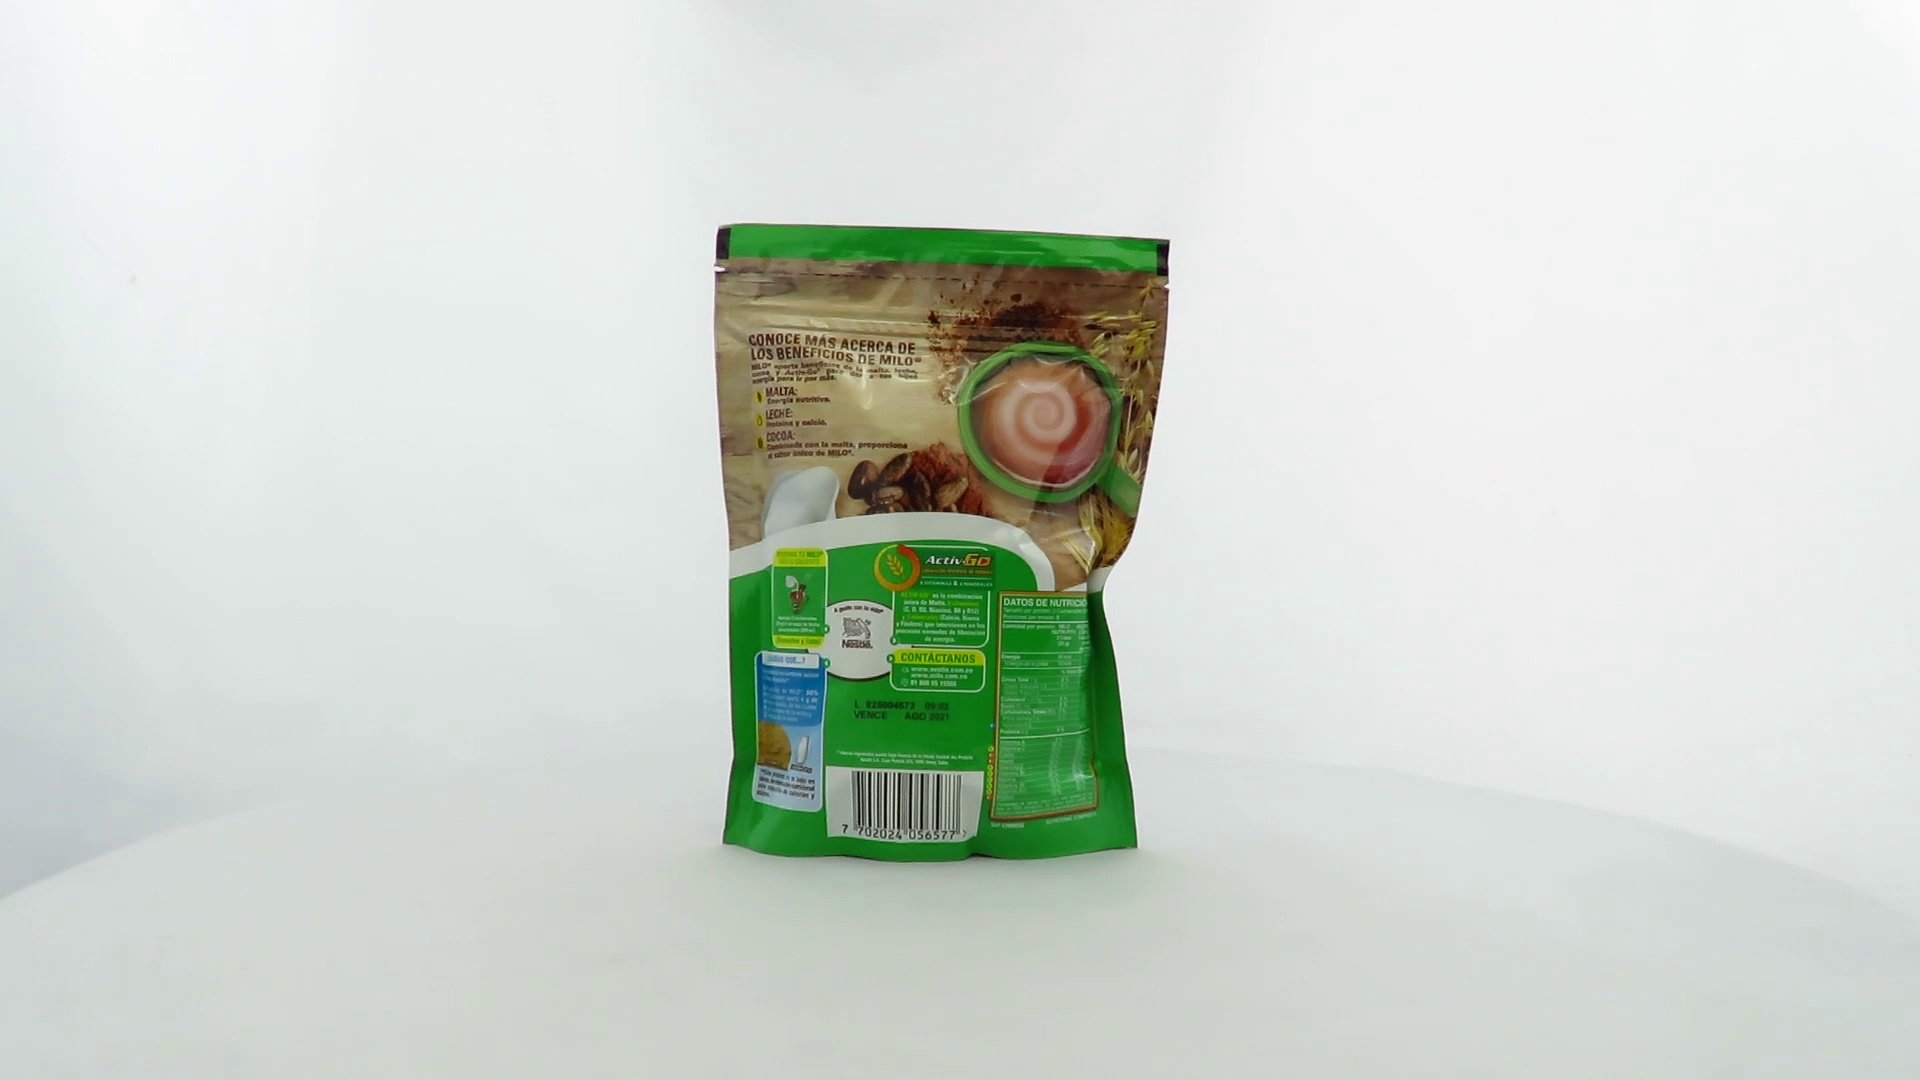COL0170205DYP20000: (708, 218, 1176, 869)
